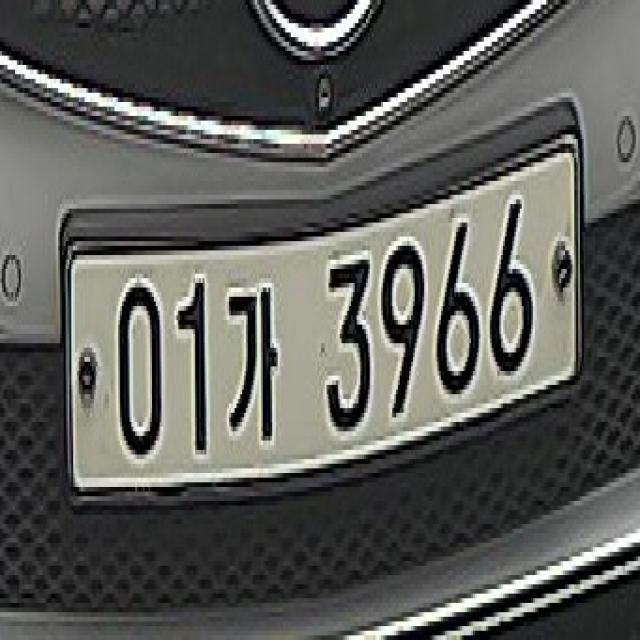0: (108, 262, 167, 473)
1: (173, 262, 214, 477)
3: (320, 226, 376, 450)
6: (433, 200, 487, 410), (488, 176, 540, 389)
9: (378, 227, 430, 437)
ga: (221, 256, 284, 468)
license_plate: (56, 99, 584, 506)
